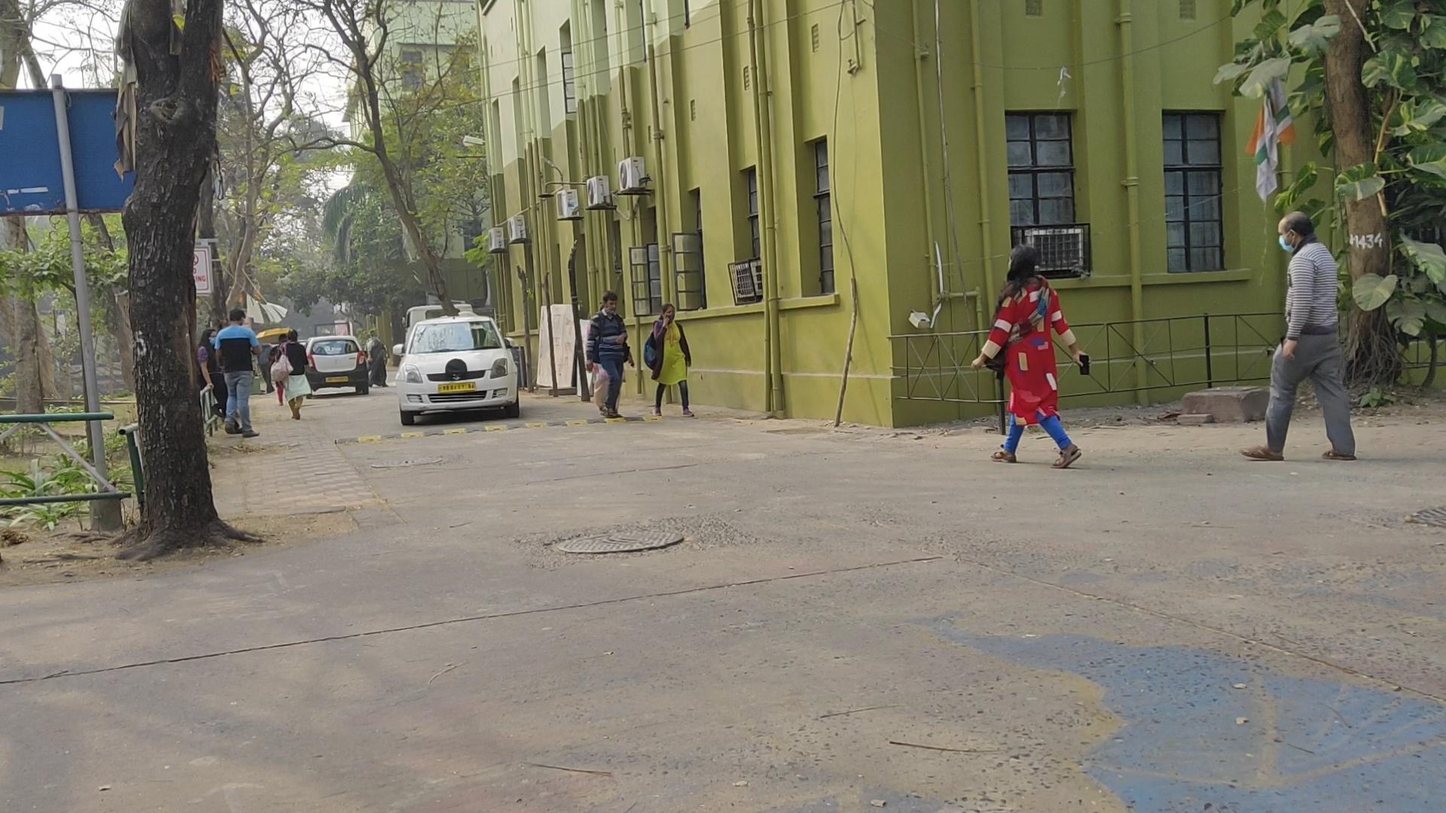car: (395, 317, 522, 426), (305, 336, 371, 396)
